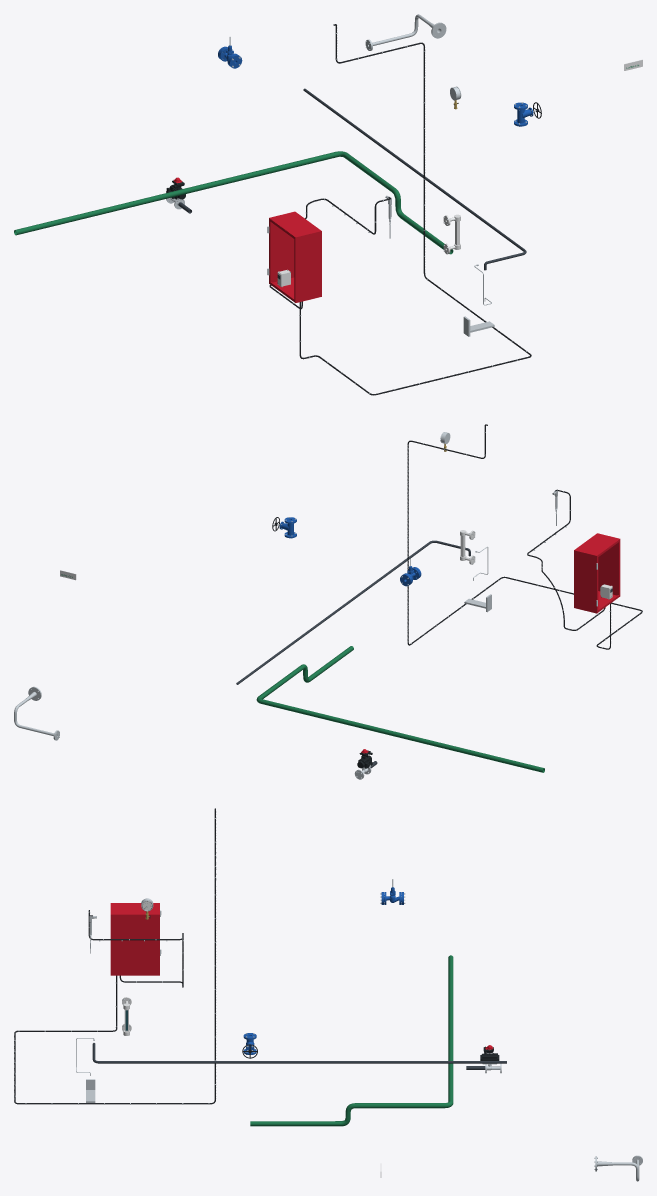
Rendered from s4000-7-Bxl2IpRJ.glb.
The picture shows the model from 3 angles, top to bottom: view 1: azimuth 30°, elevation 25°; view 2: azimuth 150°, elevation 25°; view 3: azimuth 270°, elevation 25°; orthographic projection. The views are drawn at different scales.
Visible parts, largest first — view 1: control_cabinet / control_cabinet_0.npz, suction_common / green, gpz_drive_cable / black, tds_common / dark, fv_to_trap_gap / steel; view 2: control_cabinet / control_cabinet_0.npz, suction_common / green, gpz_drive_cable / black, tds_common / dark; view 3: control_cabinet / control_cabinet_0.npz, suction_common / green, gpz_drive_cable / black, tds_common / dark.
Boxes of the visible parts, left/top/right/bottom form: control_cabinet / control_cabinet_0.npz: left=267, top=211, right=321, bottom=302; suction_common / green: left=14, top=151, right=453, bottom=254; gpz_drive_cable / black: left=299, top=24, right=531, bottom=395; tds_common / dark: left=303, top=88, right=526, bottom=270; fv_to_trap_gap / steel: left=365, top=14, right=446, bottom=50; control_cabinet / control_cabinet_0.npz: left=574, top=533, right=620, bottom=613; suction_common / green: left=256, top=646, right=544, bottom=772; gpz_drive_cable / black: left=407, top=424, right=642, bottom=649; tds_common / dark: left=236, top=540, right=470, bottom=684; control_cabinet / control_cabinet_0.npz: left=110, top=903, right=161, bottom=975; suction_common / green: left=250, top=955, right=453, bottom=1126; gpz_drive_cable / black: left=14, top=808, right=216, bottom=1104; tds_common / dark: left=92, top=1043, right=506, bottom=1063.
Size of the model in its own units: 6.76 by 3.17 by 6.74.
